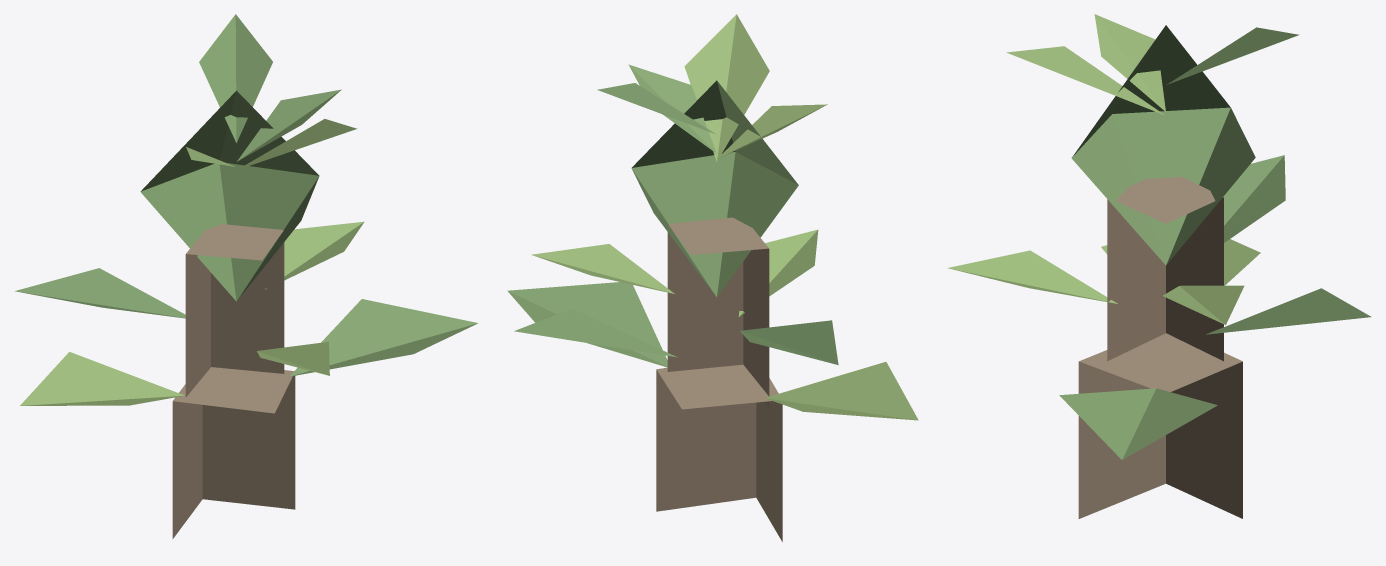
File: shu.maozhu@seedling__spring.glb
The picture shows the model from 3 angles, left to right: view 1: azimuth 30°, elevation 25°; view 2: azimuth 150°, elevation 25°; view 3: azimuth 270°, elevation 25°; orthographic projection. The views are drawn at different scales.
Parts seen in each view (by area): view 1: shu.maozhu@seedling__spring; view 2: shu.maozhu@seedling__spring; view 3: shu.maozhu@seedling__spring.
Part boxes in pixels (x1,y1,x2,y2): shu.maozhu@seedling__spring: (15, 14, 478, 538); shu.maozhu@seedling__spring: (507, 14, 918, 541); shu.maozhu@seedling__spring: (947, 14, 1370, 518).
Bounding box in the file's own units: 0.4222 × 0.4255 × 0.3171.
